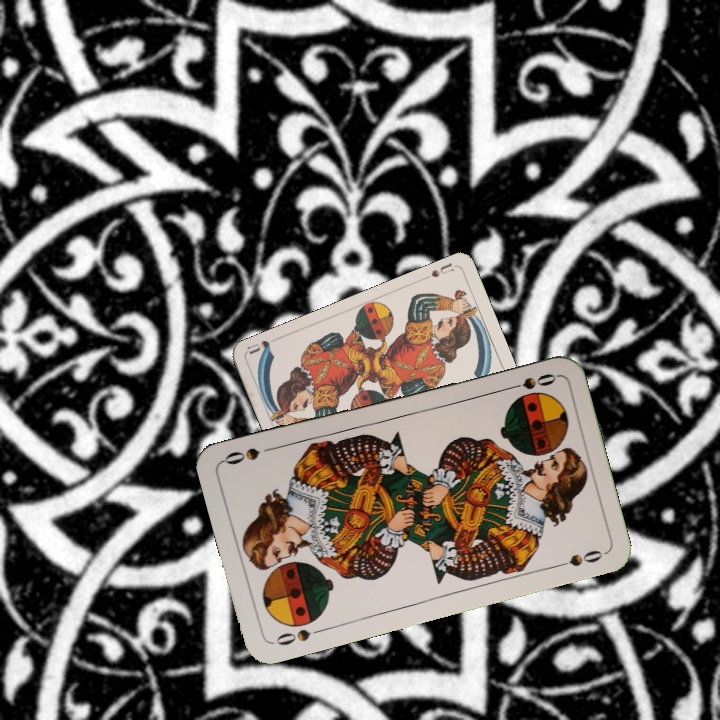SO: (500, 369, 559, 394), (272, 624, 327, 648)
SU: (427, 259, 457, 280)
